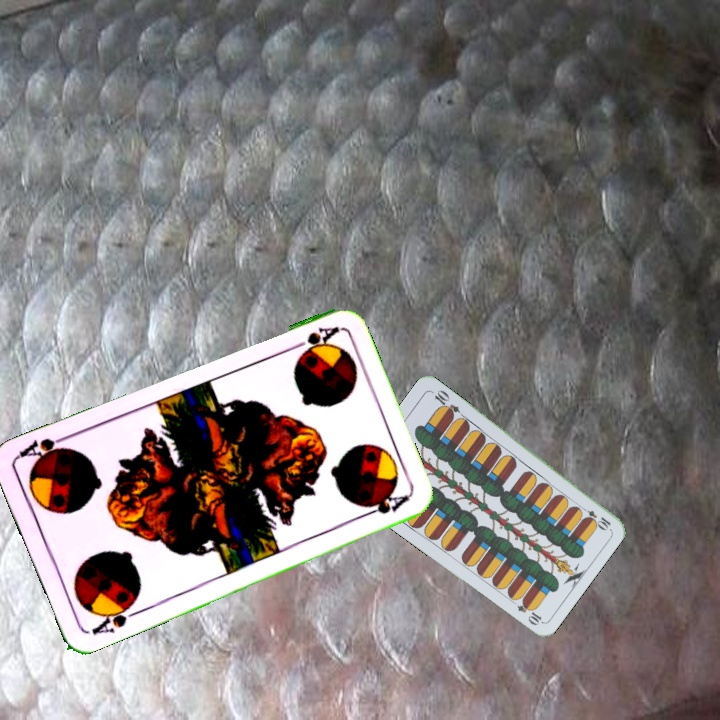E10: (576, 502, 613, 532)
SA: (87, 597, 142, 638), (284, 322, 341, 360)
